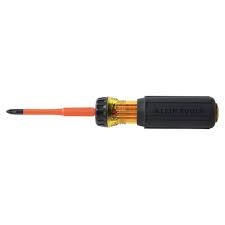screwdriver: (5, 95, 219, 129)
